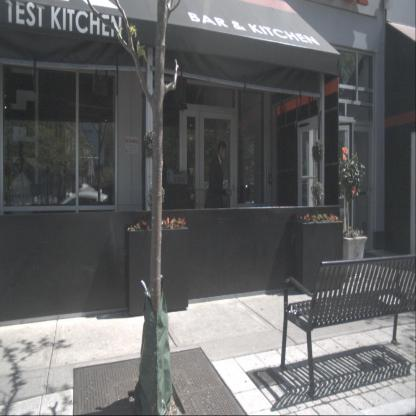human-pedestrian-adult: (204, 140, 232, 265)
vehicle-car: (187, 178, 257, 226), (46, 183, 108, 235)
